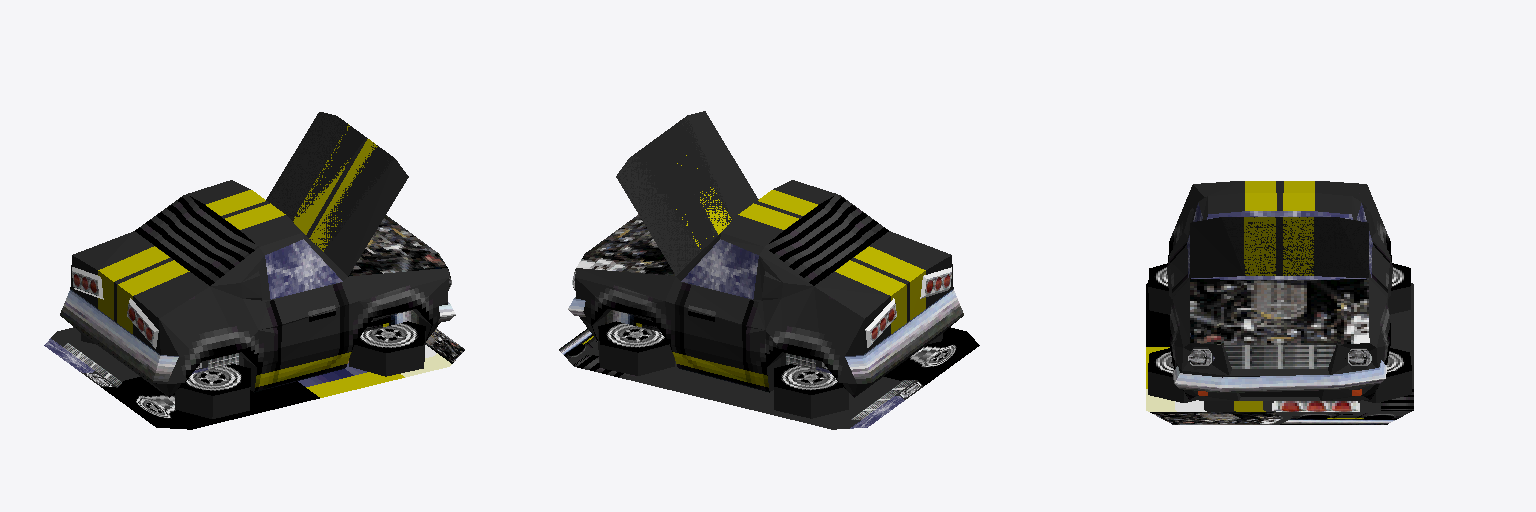
The picture shows the model from 3 angles: view 1: azimuth 30°, elevation 25°; view 2: azimuth 150°, elevation 25°; view 3: azimuth 270°, elevation 25°; orthographic projection.
Size of the model in its own units: 4.69 by 2.66 by 3.5.
Materials: 1 (1 with a texture image).